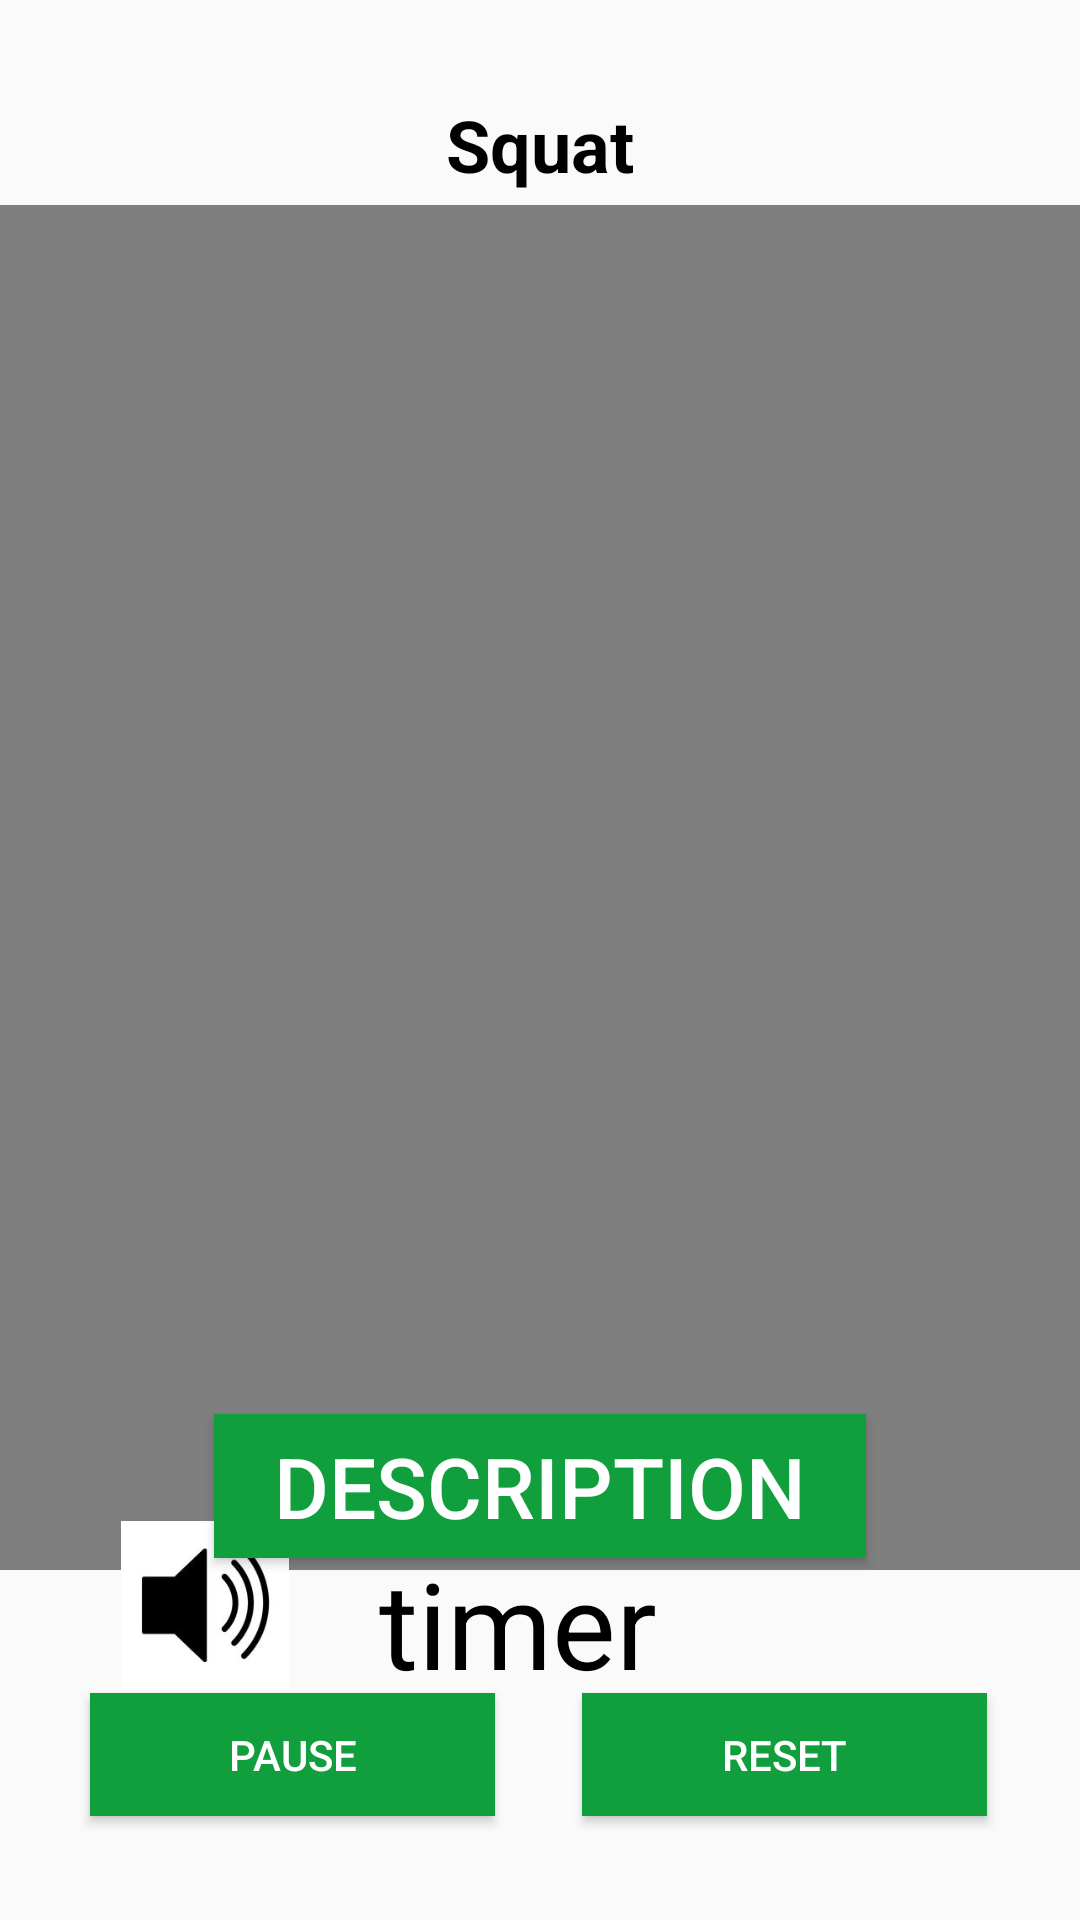

Icon click points for this 1080*1920 phone screenshot, format (x=x, y=y):
speakericon: (x=205, y=1605)
